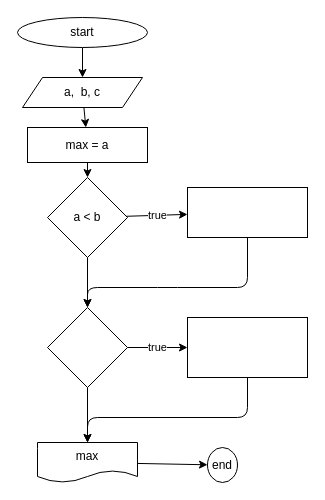
Image size: 325x500. Some labels were removed from this diagram. The shapes that lost their labels are listed below. From the top down, each one's centre as x and y in pixels, then its label:
At point 247,212: "max = b".
At point 87,347: "max < c".
At point 247,347: "max = c".
